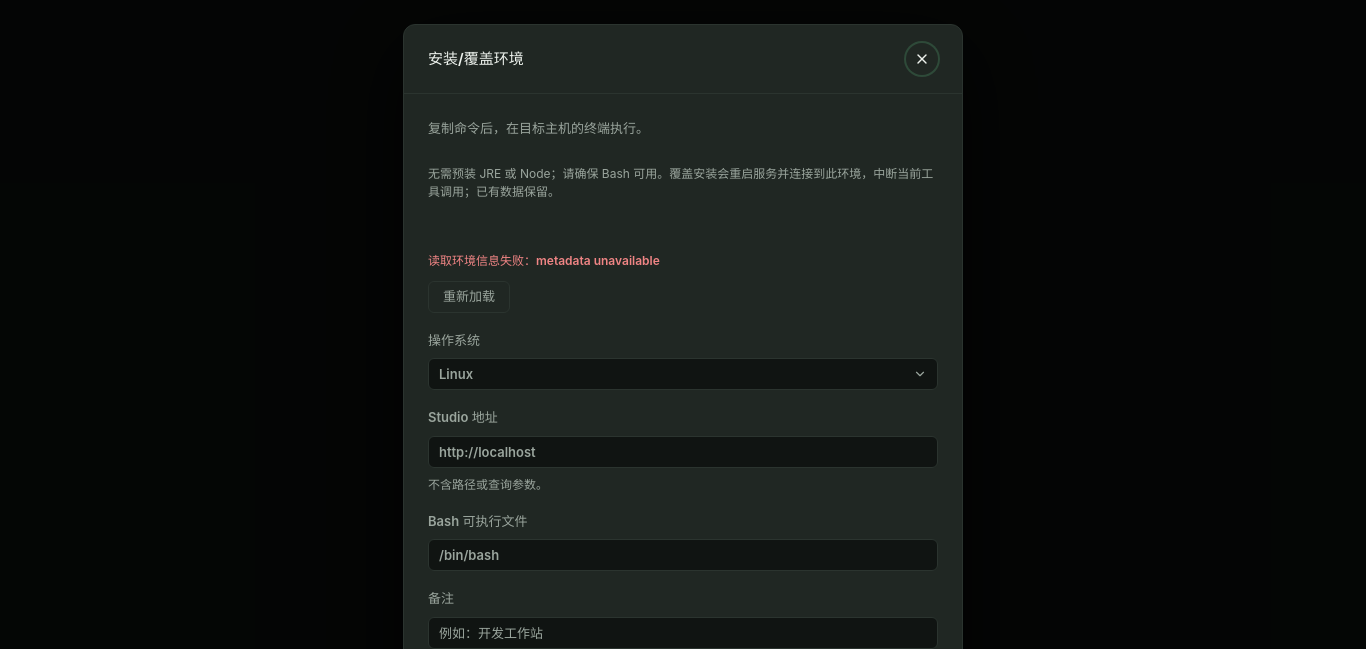
Test case: EnvironmentInstallModal › retries metadata transport failure and keeps a usable form
The image size is (1366, 649).
Check: the message shows "读取环境信息失败", box x1=428 y1=253 x2=660 y2=268
Check: the message shows "metadata unavailable", box x1=428 y1=253 x2=660 y2=268
Click the button "重新加载": (469, 297) x1=428 y1=281 x2=510 y2=313
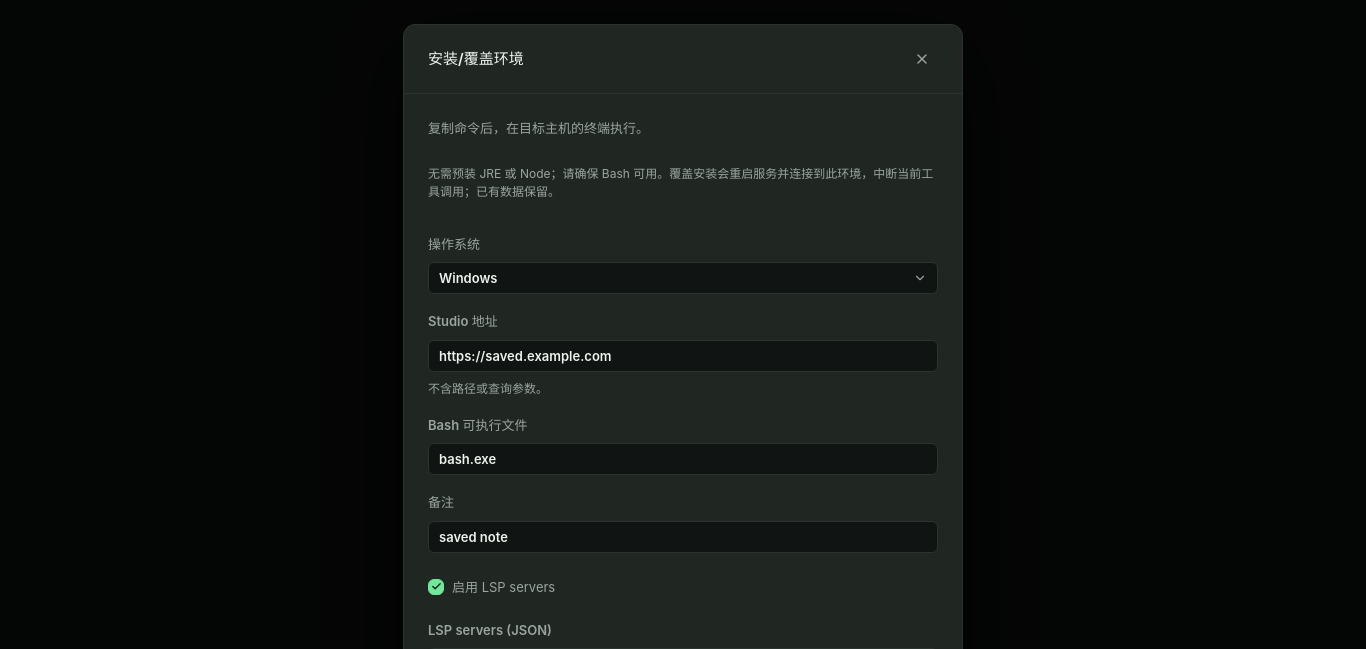
Check: the field labelled "Studio 地址" holds "https://saved.example.com", box x1=428 y1=340 x2=938 y2=372
Check: the message "读取环境信息失败：metadata unavailable 重新加载" is gone
